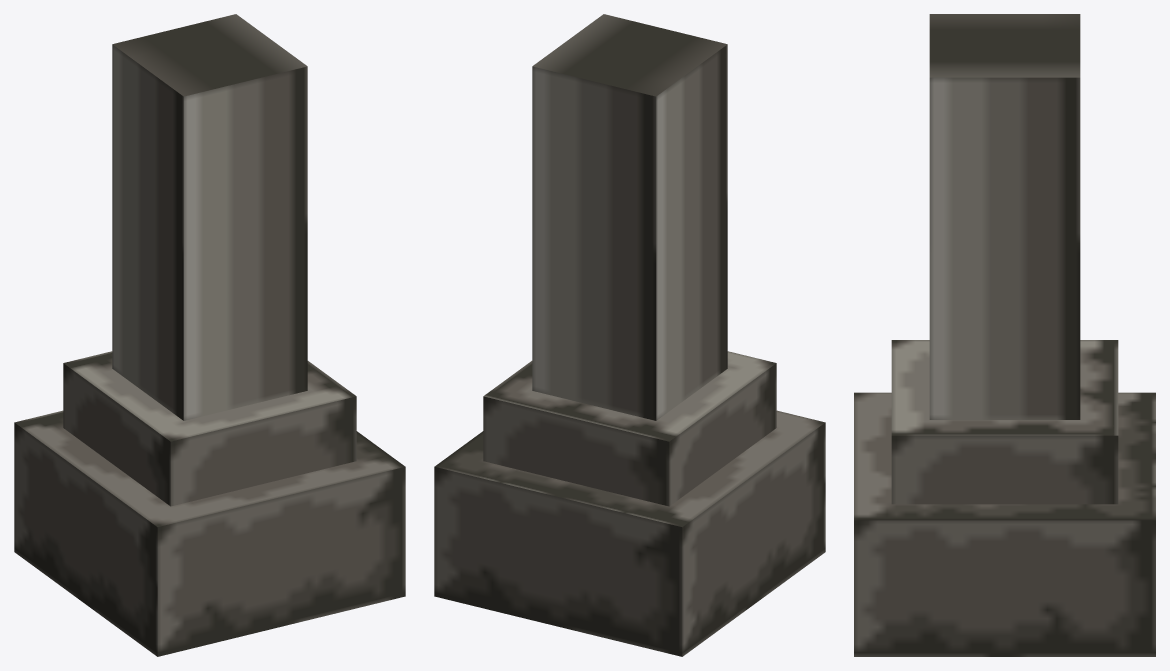
File: Pillar_Bottom.fbx
3 renders of one model, left to right at view 1: azimuth 30°, elevation 25°; view 2: azimuth 150°, elevation 25°; view 3: azimuth 270°, elevation 25°, orthographic. The views are drawn at different scales.
Visible parts, largest first — view 1: Pillar_Bottom; view 2: Pillar_Bottom; view 3: Pillar_Bottom.
Boxes of the visible parts, x1,y1,x2,y2 form: Pillar_Bottom: [14, 14, 405, 656]; Pillar_Bottom: [434, 14, 825, 656]; Pillar_Bottom: [854, 14, 1155, 656].
Bounding box in the file's own units: 200 × 400 × 200.
Materials: 1 (1 with a texture image).
